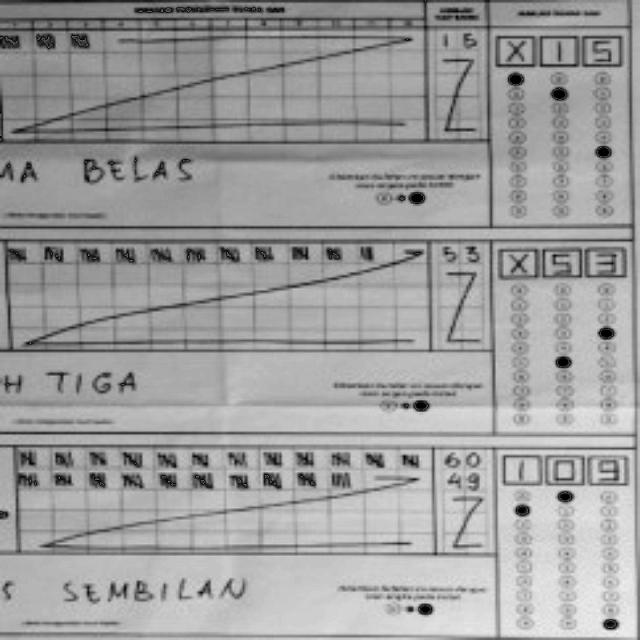Suara: (492, 25, 625, 69), (498, 450, 630, 488), (495, 243, 628, 280)
